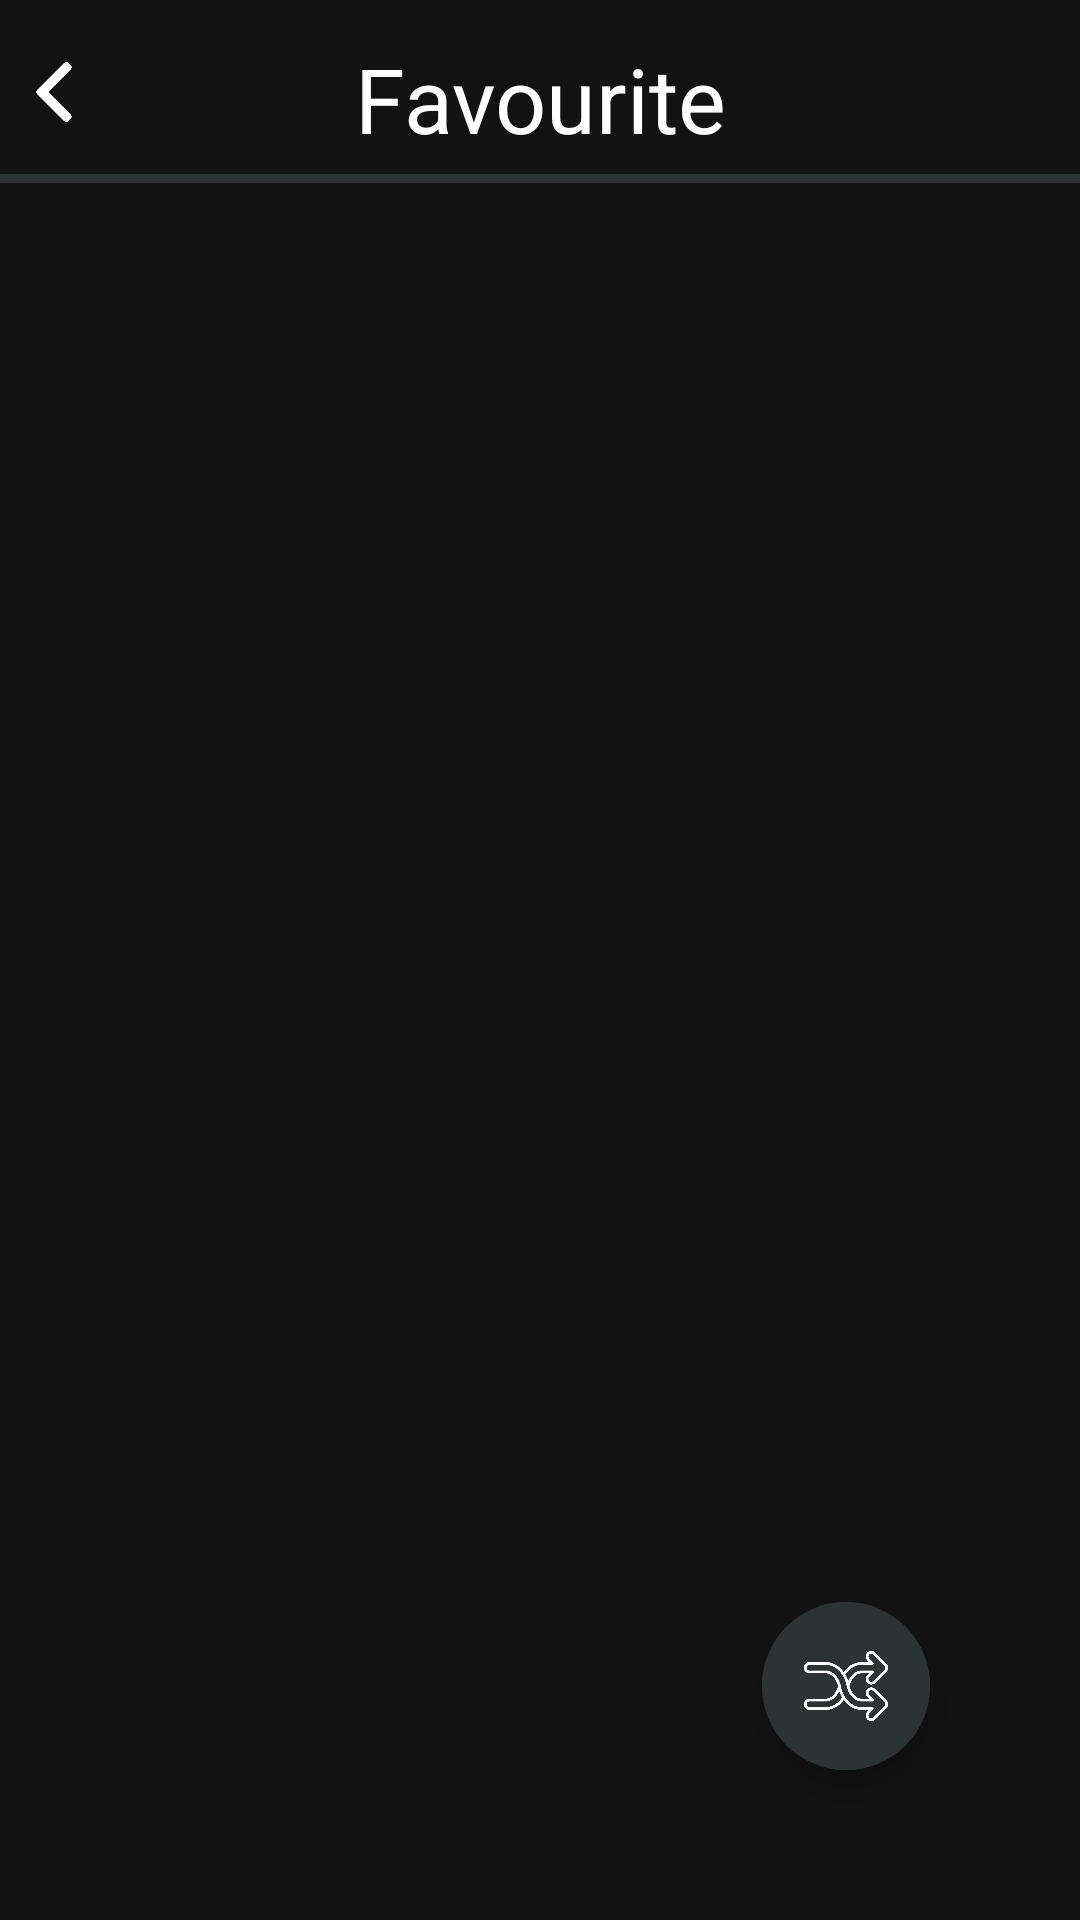

Screen size 1080px x 1920px. Icon name, then its box in pixels as box=[x1, y1, x2, y2]:
backarrow: box=[36, 62, 72, 122]
shuffle: box=[762, 1602, 930, 1770]
